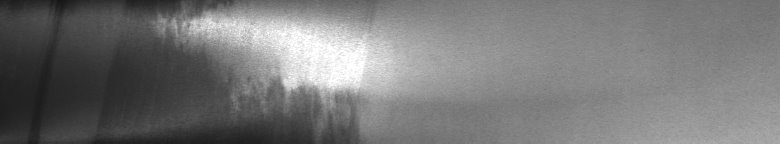ke: (25, 4, 364, 136)
